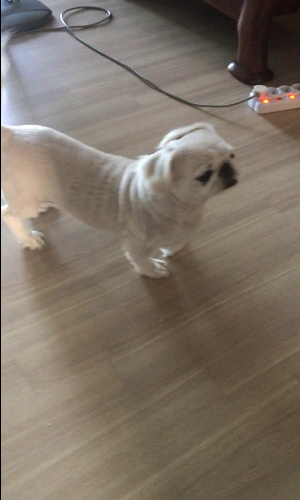ddubi: (1, 113, 242, 284)
